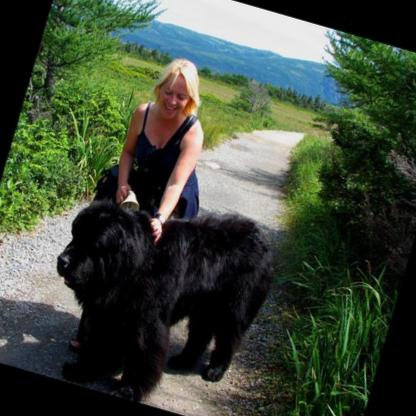Newfoundland: (17, 164, 296, 416)
